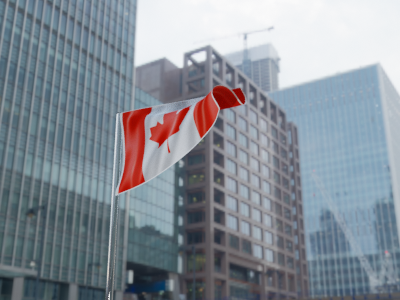Canada flag: (115, 86, 246, 197)
